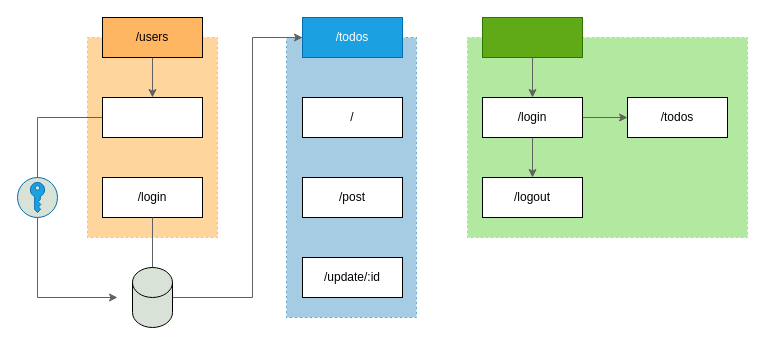
This 765x345 diagram has some shape labels left out. The shapes that lost their labels are listed below. From the top down, each one's centre as x and y in pixels, then its label:
At (532,37): "/admin".
At (152,117): "/signup".
